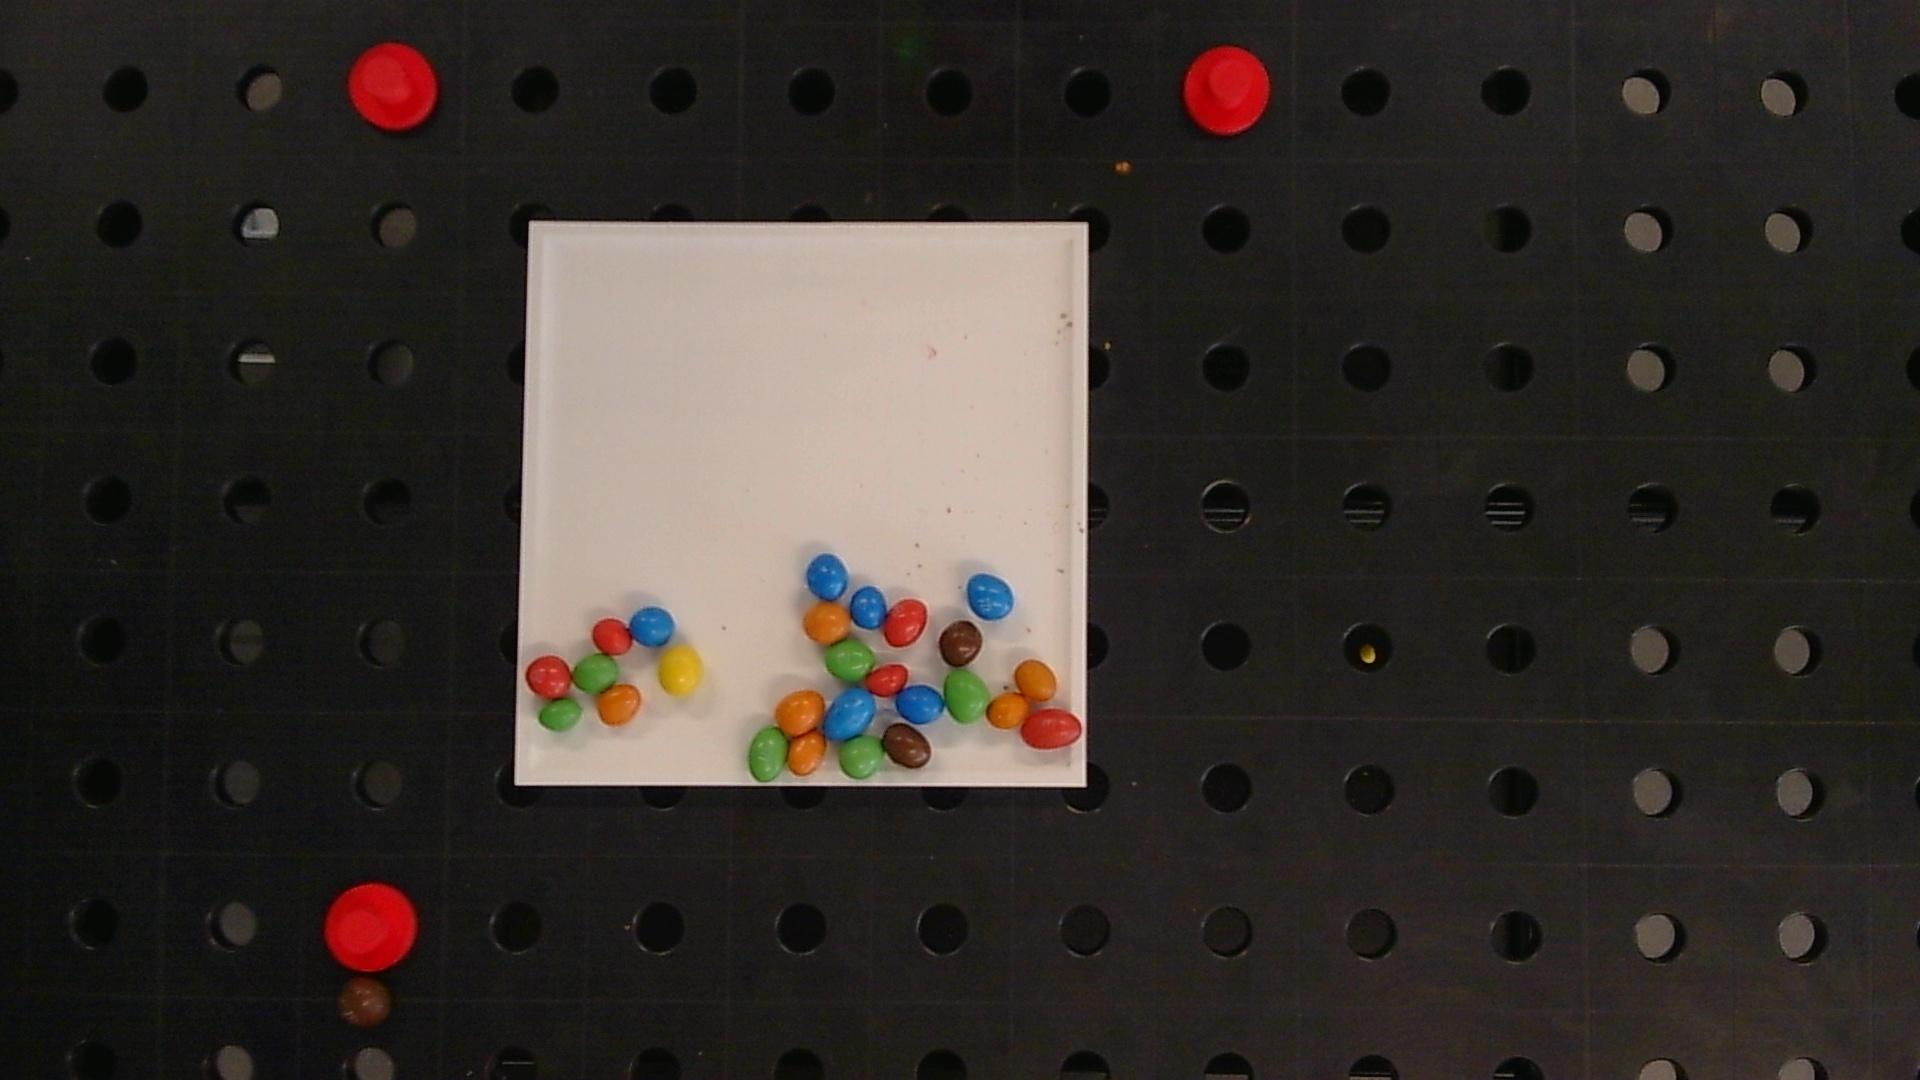blue: (823, 688, 876, 740), (967, 574, 1014, 618), (806, 554, 848, 600), (897, 684, 944, 724), (629, 607, 675, 646), (849, 585, 887, 629)
brown: (882, 723, 932, 769), (939, 620, 984, 667)
green: (944, 670, 989, 723), (748, 727, 787, 782), (825, 641, 876, 682), (839, 737, 884, 779), (572, 654, 617, 692), (538, 699, 583, 732)
orange: (775, 690, 825, 736), (804, 603, 851, 645), (597, 683, 641, 725), (1014, 658, 1056, 702), (787, 731, 827, 775), (986, 694, 1029, 728)
red: (1021, 709, 1083, 748), (884, 599, 927, 646), (525, 654, 572, 698), (592, 617, 632, 655), (866, 663, 907, 695)
yellow: (658, 646, 703, 696)
